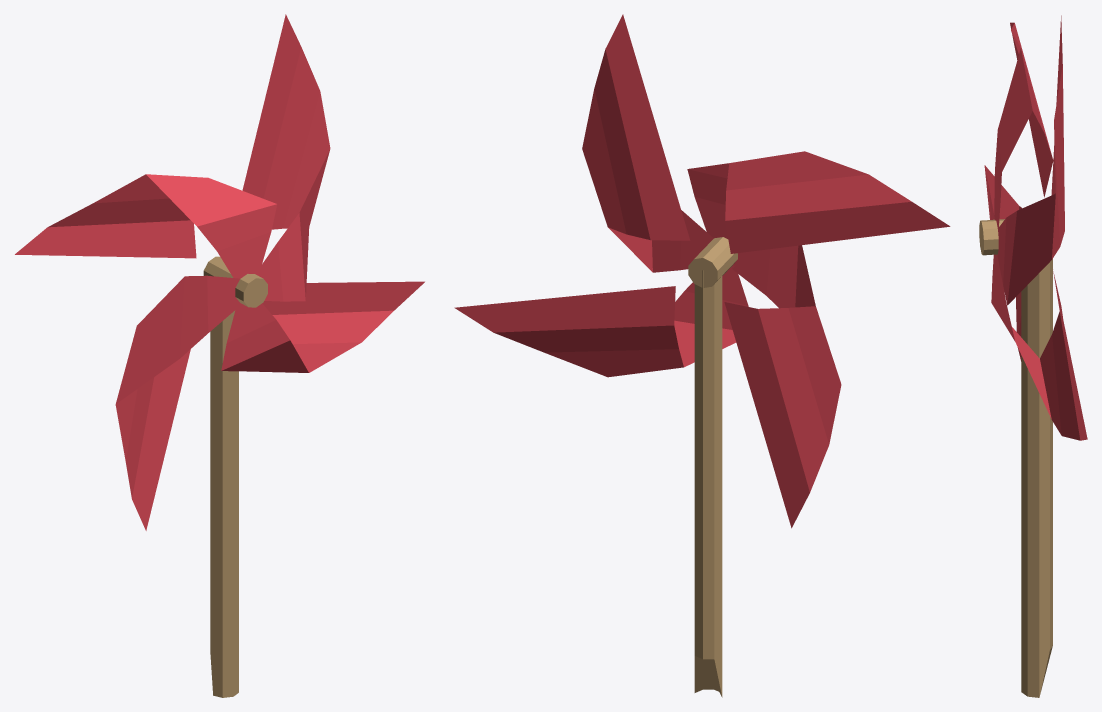
Rendered from Kazaguruma1-Island-M13.fbx.
The picture shows the model from 3 angles, left to right: view 1: azimuth 30°, elevation 25°; view 2: azimuth 150°, elevation 25°; view 3: azimuth 270°, elevation 25°; orthographic projection. The views are drawn at different scales.
Parts seen in each view (by area): view 1: kazaguruma1; view 2: kazaguruma1; view 3: kazaguruma1.
Boxes of the visible parts, x1=… form: kazaguruma1: x1=15, y1=14, x2=424, y2=697; kazaguruma1: x1=454, y1=14, x2=950, y2=697; kazaguruma1: x1=979, y1=15, x2=1087, y2=697.
Bounding box in the file's own units: 276 × 386 × 52.91.
